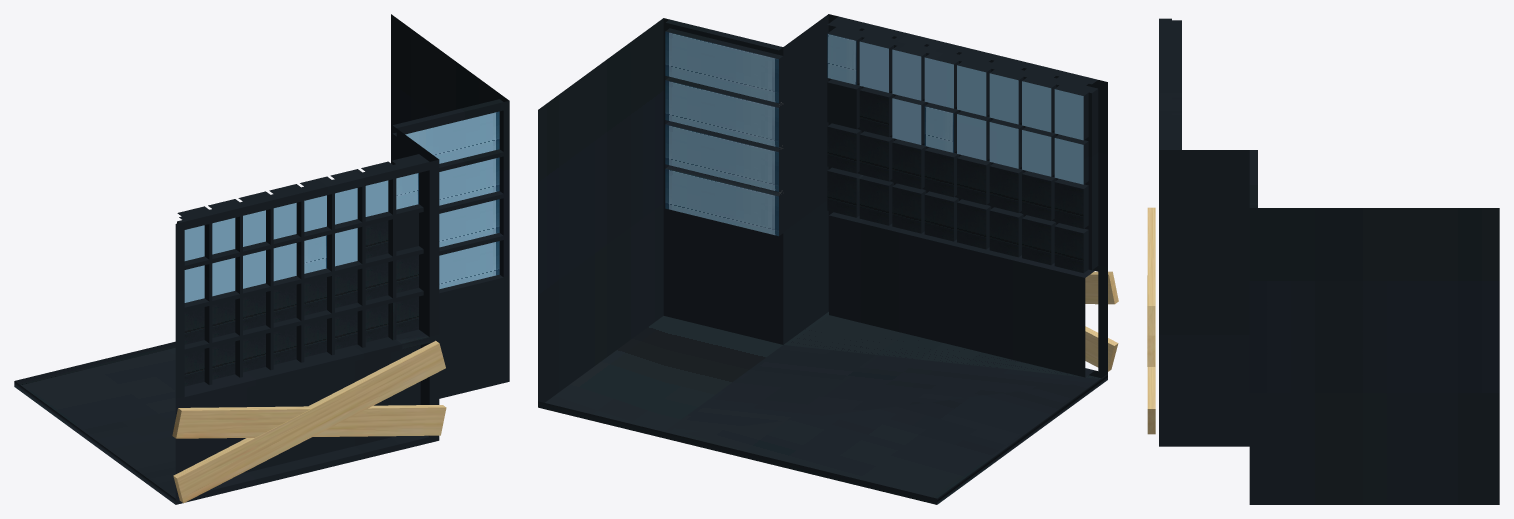
The model's file is koujou_color_02.obj.
The picture shows the model from 3 angles, left to right: view 1: azimuth 30°, elevation 25°; view 2: azimuth 150°, elevation 25°; view 3: azimuth 270°, elevation 25°; orthographic projection. The views are drawn at different scales.
Parts seen in each view (by area): view 1: pCube1, pCube4, pCube3; view 2: pCube1, pCube4, pCube3; view 3: pCube1, pCube3, pCube4.
Boxes of the visible parts, x1=… form: pCube1: x1=14, y1=14, x2=509, y2=504; pCube4: x1=173, y1=340, x2=445, y2=503; pCube3: x1=172, y1=405, x2=446, y2=438; pCube1: x1=538, y1=14, x2=1107, y2=504; pCube4: x1=1085, y1=326, x2=1118, y2=371; pCube3: x1=1085, y1=271, x2=1118, y2=304; pCube1: x1=1159, y1=18, x2=1499, y2=504; pCube3: x1=1147, y1=207, x2=1155, y2=434; pCube4: x1=1147, y1=275, x2=1155, y2=366.
Size of the model in its own units: 5.24 by 3.69 by 3.97.
